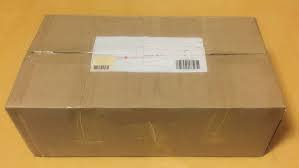undamaged: (2, 13, 288, 158)
